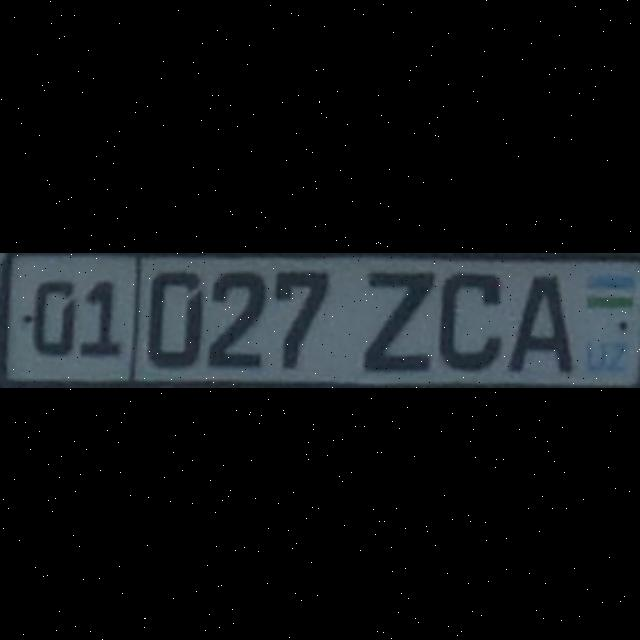0: (147, 268, 201, 366), (29, 276, 72, 354)
1: (76, 278, 120, 356)
2: (204, 268, 264, 364)
7: (271, 268, 327, 364)
A: (504, 274, 570, 370)
C: (438, 270, 498, 370)
Z: (361, 268, 433, 368)
